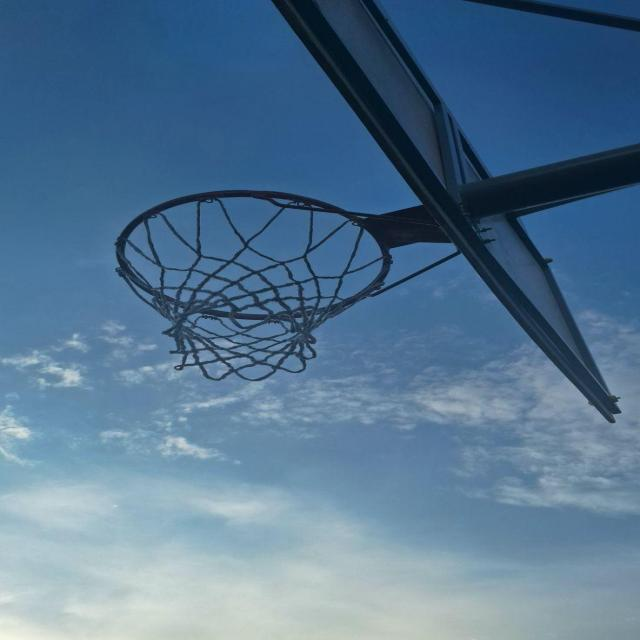hoop: (46, 177, 440, 400)
